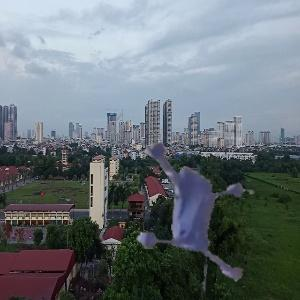drone: (86, 111, 262, 287)
